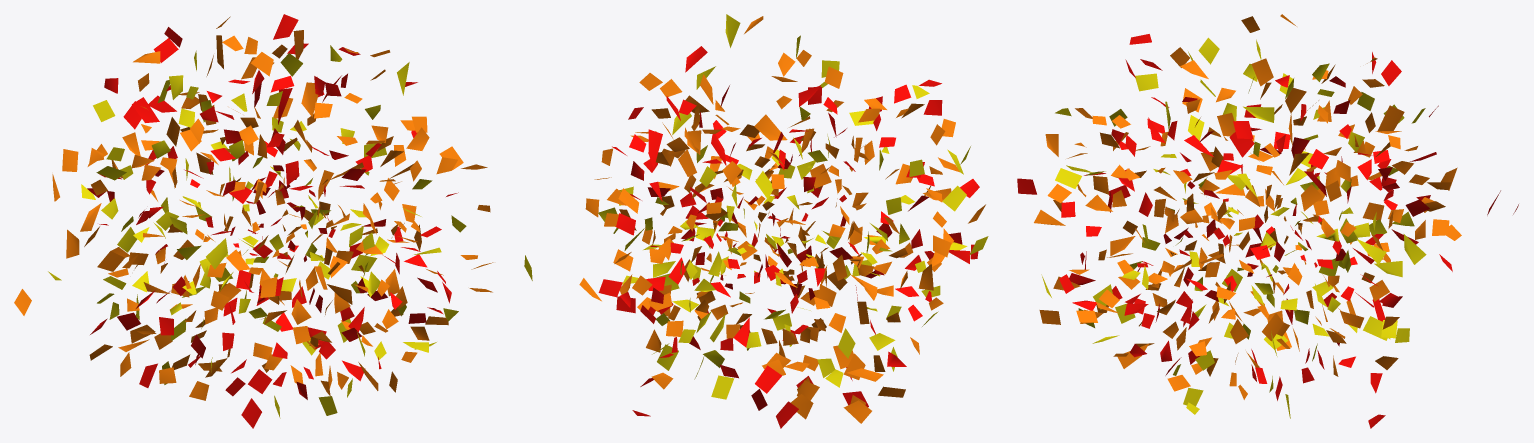
File: leafsThin4.fbx
3 renders of one model, left to right at view 1: azimuth 30°, elevation 25°; view 2: azimuth 150°, elevation 25°; view 3: azimuth 270°, elevation 25°, orthographic. The views are drawn at different scales.
Visible parts, largest first — view 1: leafsThin4_LOD0; view 2: leafsThin4_LOD0; view 3: leafsThin4_LOD0.
Part boxes in pixels (bbox=[...]): leafsThin4_LOD0: bbox=[14, 14, 493, 428]; leafsThin4_LOD0: bbox=[524, 14, 988, 428]; leafsThin4_LOD0: bbox=[1017, 14, 1518, 428].
Size of what is drawn, in the model's own units: 843 by 781 by 952.
